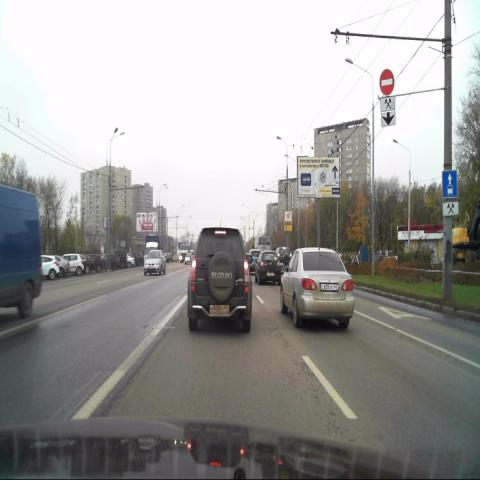3_1: (379, 67, 395, 97)
5_14: (443, 171, 457, 198)
